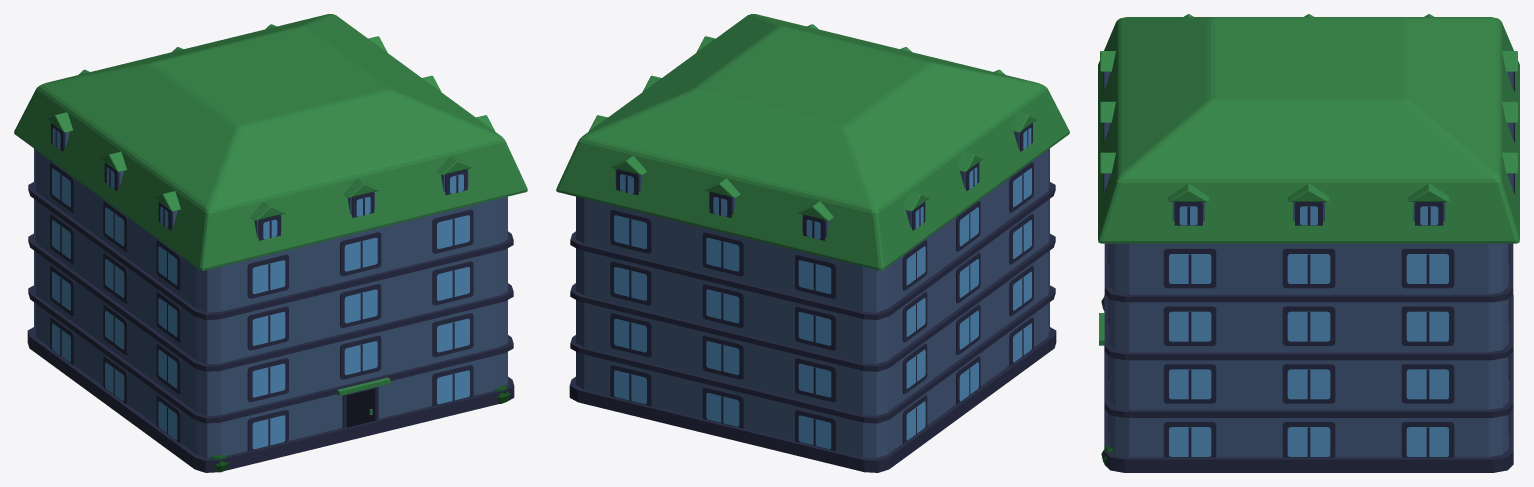
Rendered from house-2x2-4f-mansard-b.glb.
3 views of the same model, side by side, from view 1: azimuth 30°, elevation 25°; view 2: azimuth 150°, elevation 25°; view 3: azimuth 270°, elevation 25° (orthographic). The views are drawn at different scales.
Parts seen in each view (by area): view 1: house-2x2-4f-mansard-b; view 2: house-2x2-4f-mansard-b; view 3: house-2x2-4f-mansard-b.
Boxes of the visible parts, x1=… form: house-2x2-4f-mansard-b: x1=14, y1=14, x2=527, y2=472; house-2x2-4f-mansard-b: x1=556, y1=14, x2=1069, y2=472; house-2x2-4f-mansard-b: x1=1098, y1=14, x2=1519, y2=472.
Bounding box in the file's own units: 1.99 × 1.71 × 1.99.
1 material, 1 textured.
